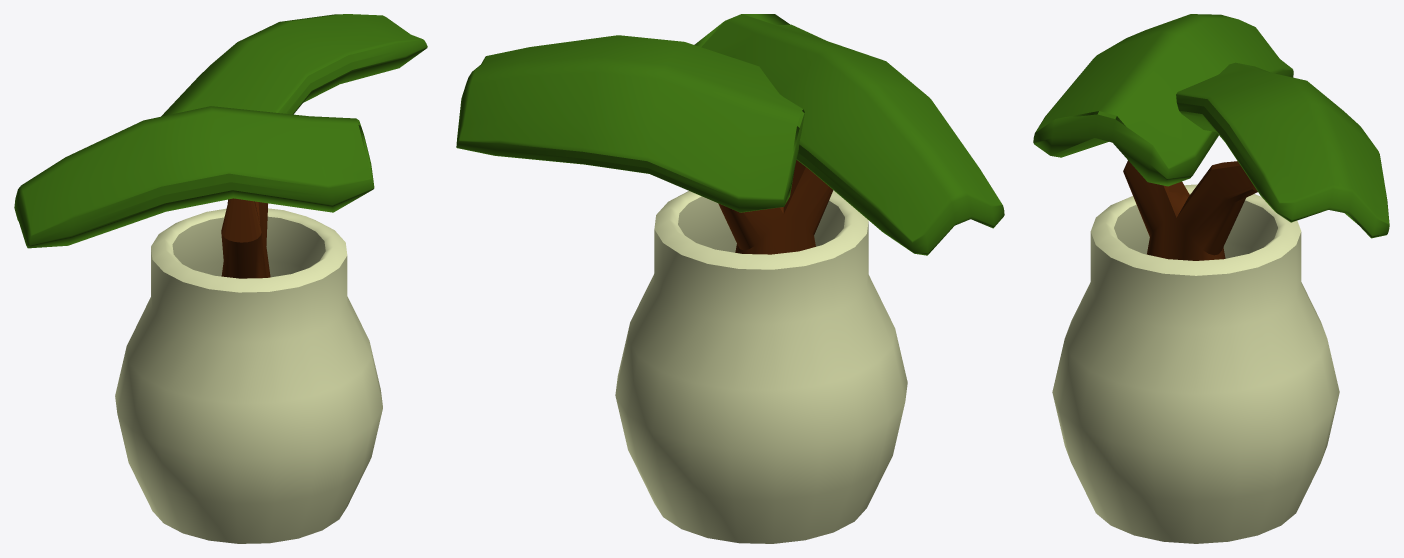
Rendered from Enviro_PottedPlant_Creole_Untextured.fbx.
The picture shows the model from 3 angles, left to right: view 1: azimuth 30°, elevation 25°; view 2: azimuth 150°, elevation 25°; view 3: azimuth 270°, elevation 25°; orthographic projection. The views are drawn at different scales.
Visible parts, largest first — view 1: Pot, Leaves2, Leaves1, Trunk1; view 2: Pot, Leaves1, Leaves2, Trunk1; view 3: Pot, Leaves2, Leaves1, Trunk1.
Part boxes in pixels (x1,y1,x2,y2): Pot: [115, 208, 382, 543]; Leaves2: [14, 106, 374, 248]; Leaves1: [161, 14, 427, 116]; Trunk1: [221, 198, 270, 278]; Pot: [615, 190, 907, 543]; Leaves1: [456, 35, 804, 212]; Leaves2: [694, 14, 1004, 255]; Trunk1: [718, 160, 833, 254]; Pot: [1052, 184, 1339, 543]; Leaves2: [1033, 14, 1293, 186]; Leaves1: [1176, 62, 1389, 238]; Trunk1: [1123, 160, 1257, 260].
Bounding box in the file's own units: 2.97 × 2.72 × 1.96.
